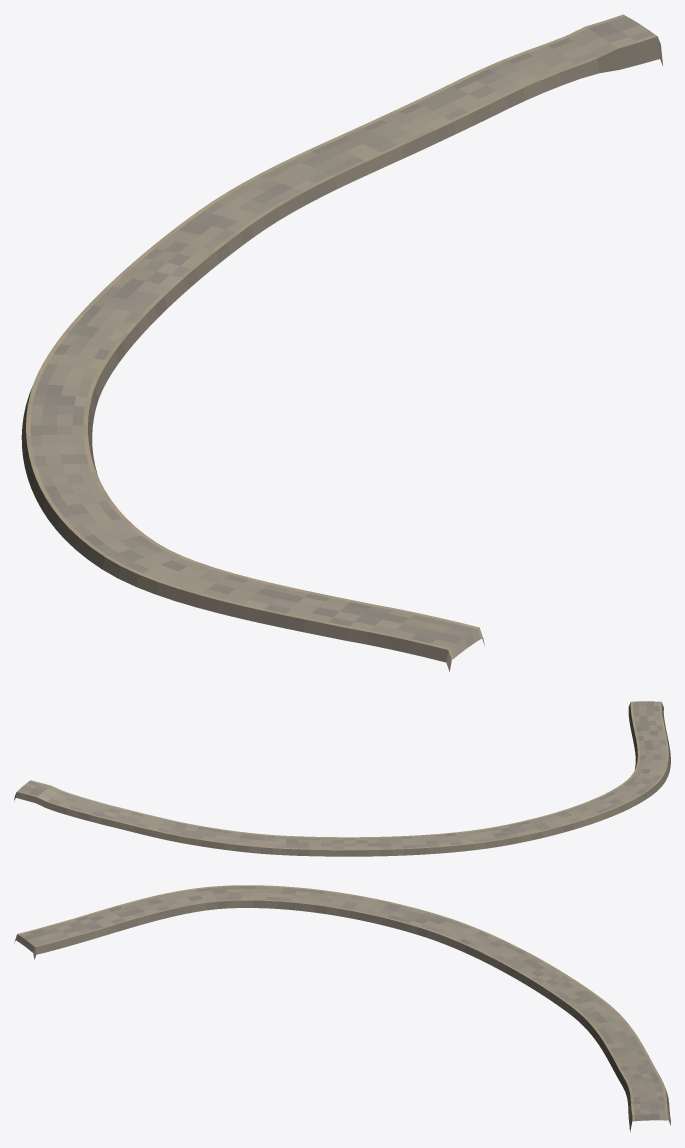
The model's file is road_ring_lane.glb.
3 views of the same model, one above another, from view 1: azimuth 30°, elevation 25°; view 2: azimuth 150°, elevation 25°; view 3: azimuth 270°, elevation 25° (orthographic). The views are drawn at different scales.
Visible parts, largest first — view 1: road_ring_lane; view 2: road_ring_lane; view 3: road_ring_lane.
Part boxes in pixels (x1,y1,x2,y2): road_ring_lane: (21,14,663,671); road_ring_lane: (14,701,670,856); road_ring_lane: (14,885,670,1132).
Size of the model in its own units: 135 by 10.02 by 145.
1 material, 1 textured.
